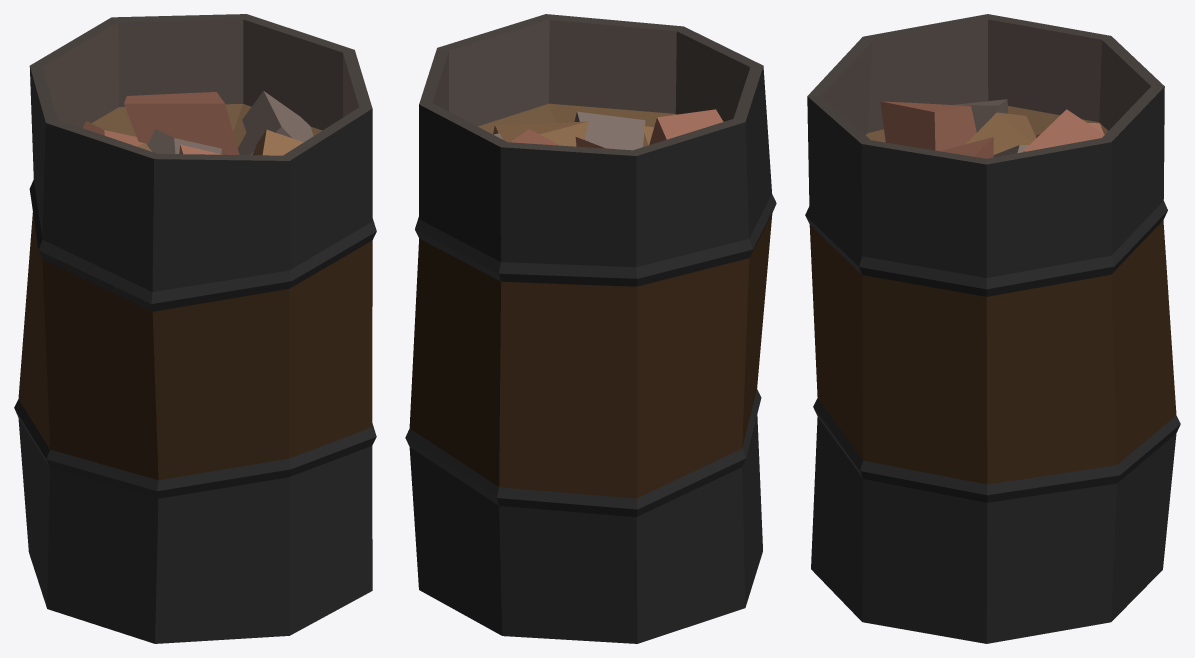
The model's file is Barrel.glb.
3 views of the same model, side by side, from view 1: azimuth 30°, elevation 25°; view 2: azimuth 150°, elevation 25°; view 3: azimuth 270°, elevation 25° (orthographic).
Parts seen in each view (by area): view 1: BarrelTrash; view 2: BarrelTrash; view 3: BarrelTrash.
Boxes of the visible parts, x1,y1,x2,y2 form: BarrelTrash: [14, 14, 376, 643]; BarrelTrash: [405, 14, 776, 643]; BarrelTrash: [805, 14, 1180, 643].
Size of the model in its own units: 0.8506 by 1.24 by 0.8717.
Materials: 1 (1 with a texture image).
